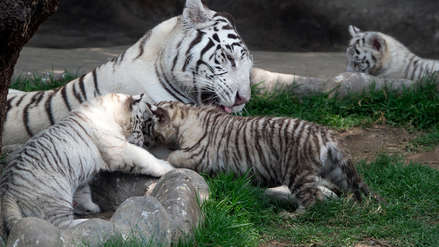Tigrew: (13, 14, 270, 133), (141, 92, 365, 217), (18, 97, 162, 219), (334, 21, 421, 98)
